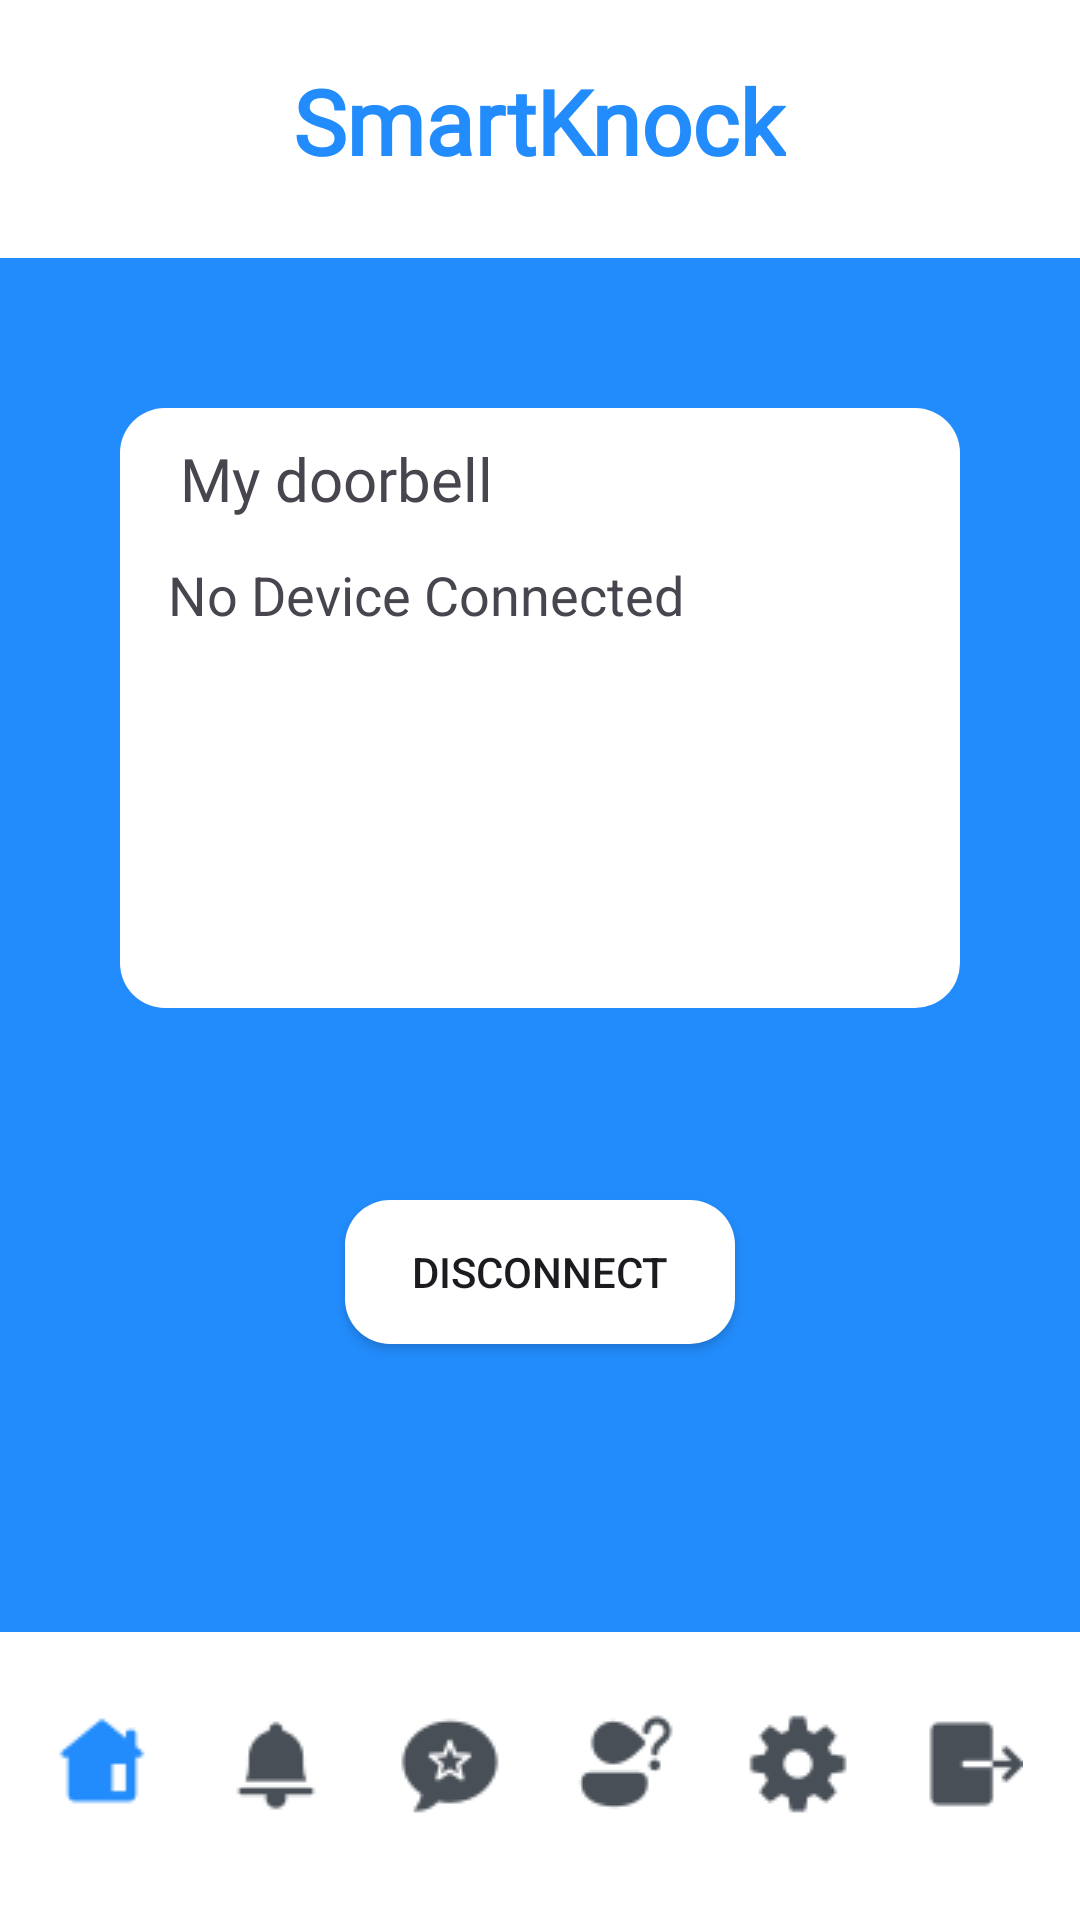

Point at icon controls on the screen. Image size 1080 × 1920, points as [x,y].
doorbell: [276,1765]
feedback: [450,1766]
helpcenter: [626,1761]
homeblue: [102,1761]
settings: [798,1764]
